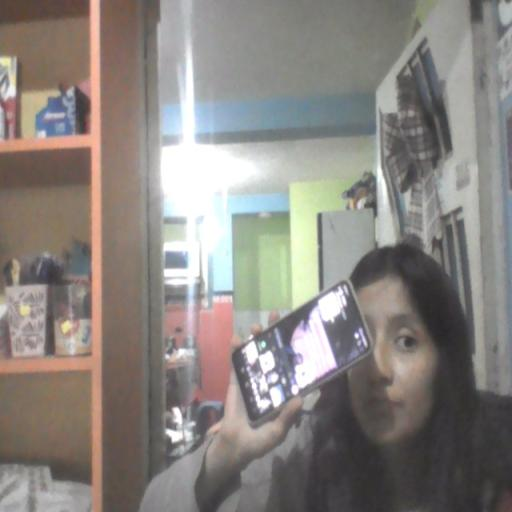phone: (227, 278, 378, 430)
